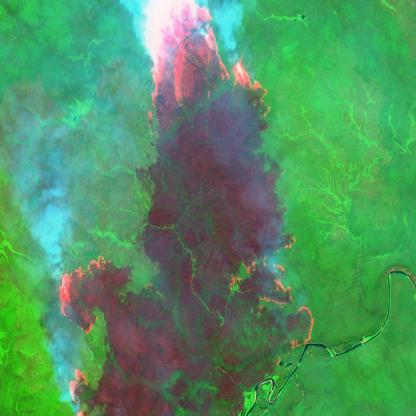fire: (134, 0, 274, 135), (223, 226, 317, 360), (52, 249, 118, 416)
